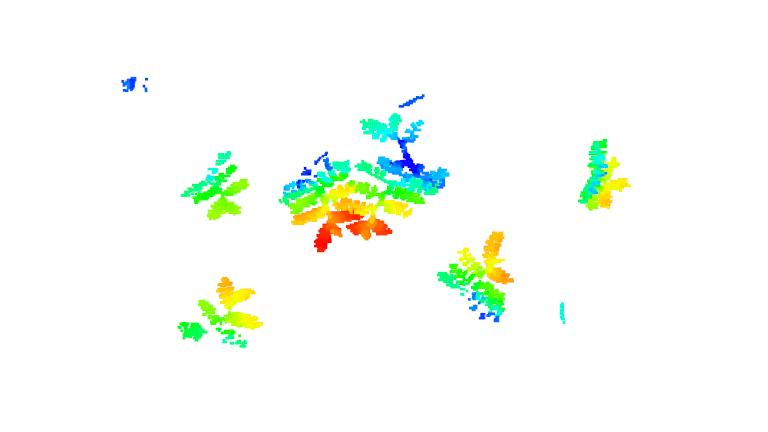chickpea: (343, 113, 453, 240), (282, 147, 360, 253), (439, 229, 515, 327), (172, 274, 263, 349), (178, 147, 253, 222), (576, 138, 630, 212)
